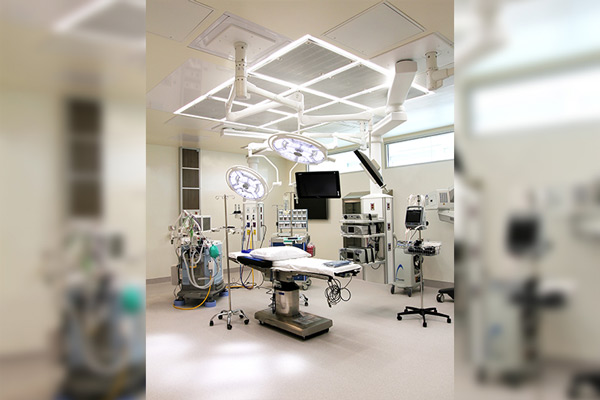TV: (294, 170, 342, 200), (353, 148, 385, 188)
iv_pole: (210, 193, 250, 330), (285, 192, 296, 238)
medical_drawer: (383, 248, 428, 297)
operating_bed: (229, 244, 362, 341)
surgical_light: (266, 131, 329, 166), (224, 164, 270, 202)
ventilator: (164, 208, 220, 309)
